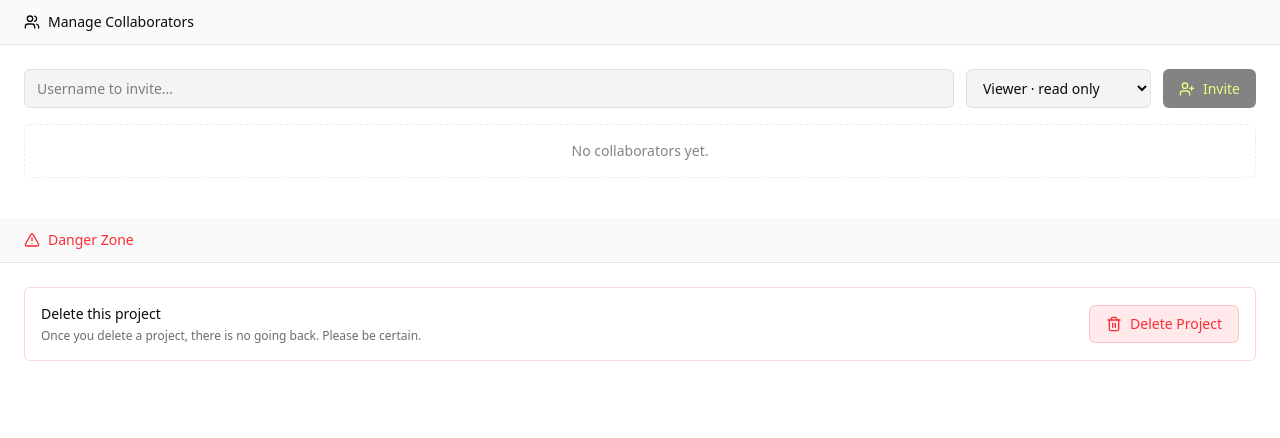
Test case: ProjectSettings collaboration and deletion › reports a refused invitation without claiming success
The width and height of the screenshot is (1280, 438).
Step 1. Type "unknown" into the field with placeholder "Username to invite..." → (489, 88), box [24, 69, 954, 108]
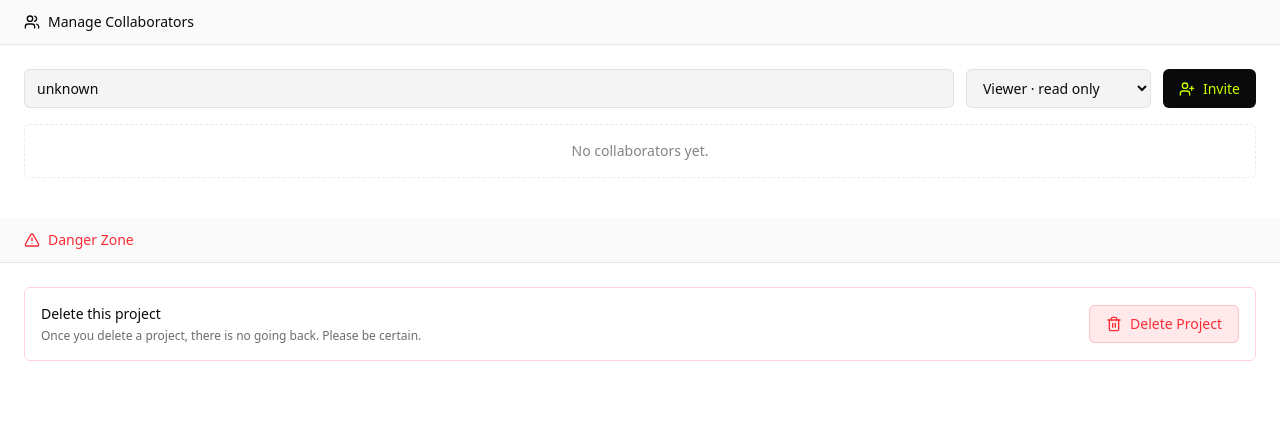
Step 2. Click the button "Invite" → (1209, 88), box [1163, 69, 1256, 108]
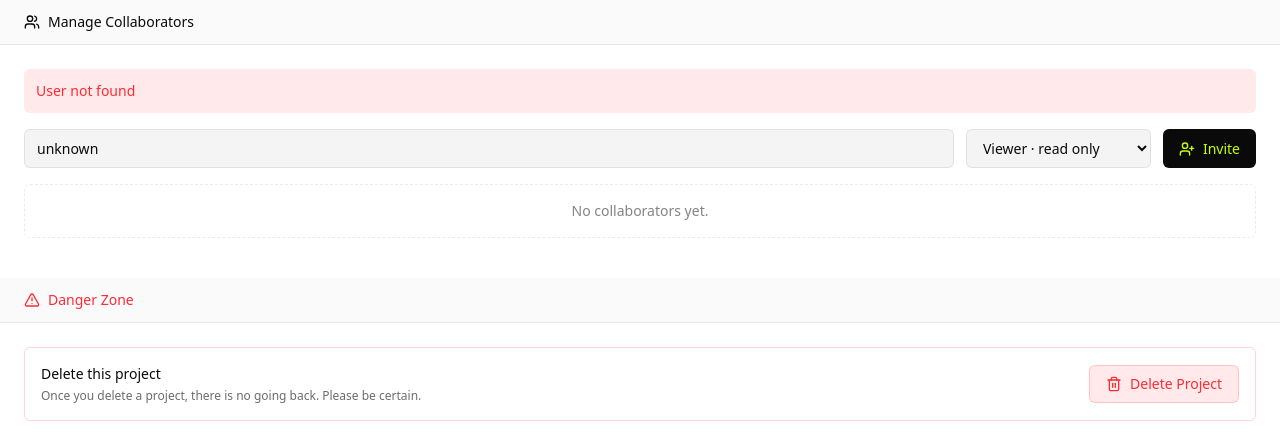
Now the message reads "User not found", box [36, 81, 135, 100]
